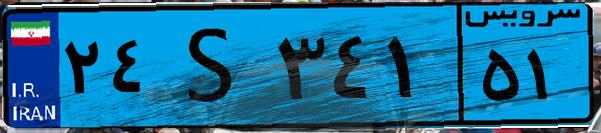1: (385, 28, 445, 110), (525, 38, 570, 115)
2: (57, 26, 110, 100)
3: (270, 28, 330, 110)
4: (330, 28, 385, 110), (110, 28, 158, 98)
5: (475, 38, 525, 113)
S: (158, 12, 270, 120)
